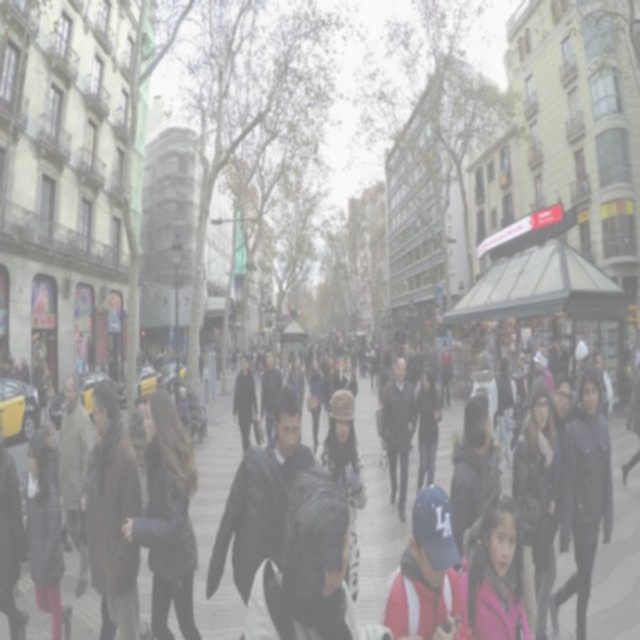pessoa: (230, 457, 396, 639), (77, 376, 158, 639), (124, 386, 204, 638), (544, 366, 618, 638), (511, 372, 566, 639), (382, 481, 474, 639), (450, 481, 534, 638), (18, 431, 76, 638), (315, 386, 369, 604), (448, 390, 504, 570), (58, 369, 96, 602), (376, 350, 418, 526), (0, 421, 30, 638), (260, 382, 316, 498), (407, 368, 442, 499), (549, 370, 573, 546), (133, 342, 223, 384), (230, 351, 260, 456), (38, 420, 61, 555), (495, 354, 520, 478), (224, 336, 288, 383), (620, 348, 640, 490), (470, 348, 500, 441), (288, 329, 352, 371), (76, 332, 124, 387), (258, 346, 284, 446), (15, 454, 48, 526), (352, 333, 386, 396), (570, 338, 599, 410), (591, 346, 615, 426), (286, 350, 306, 444), (306, 354, 324, 458), (182, 378, 209, 444), (546, 332, 576, 388), (406, 333, 432, 395), (622, 337, 640, 423), (322, 352, 340, 429), (510, 347, 530, 412), (532, 346, 556, 398), (438, 338, 454, 410), (377, 346, 395, 408), (176, 386, 198, 430), (401, 340, 419, 390), (128, 394, 146, 440), (341, 357, 358, 399), (142, 394, 155, 426), (428, 340, 440, 358)
